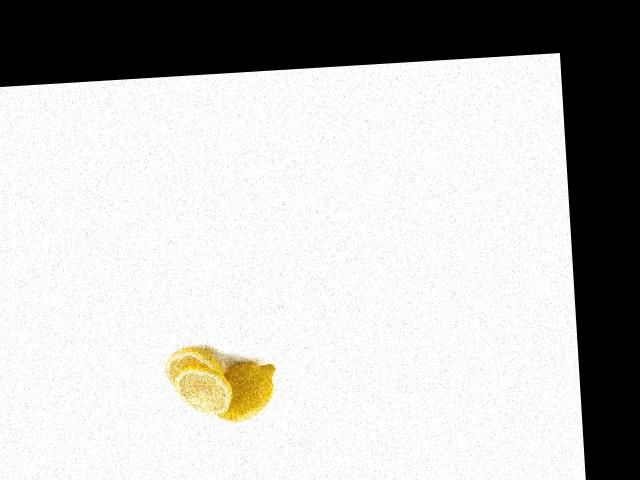lemon: (209, 356, 284, 424)
